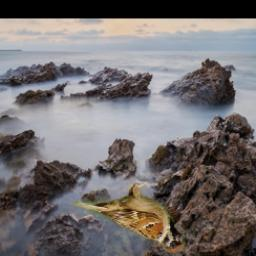Sparrow: (70, 179, 190, 255)
